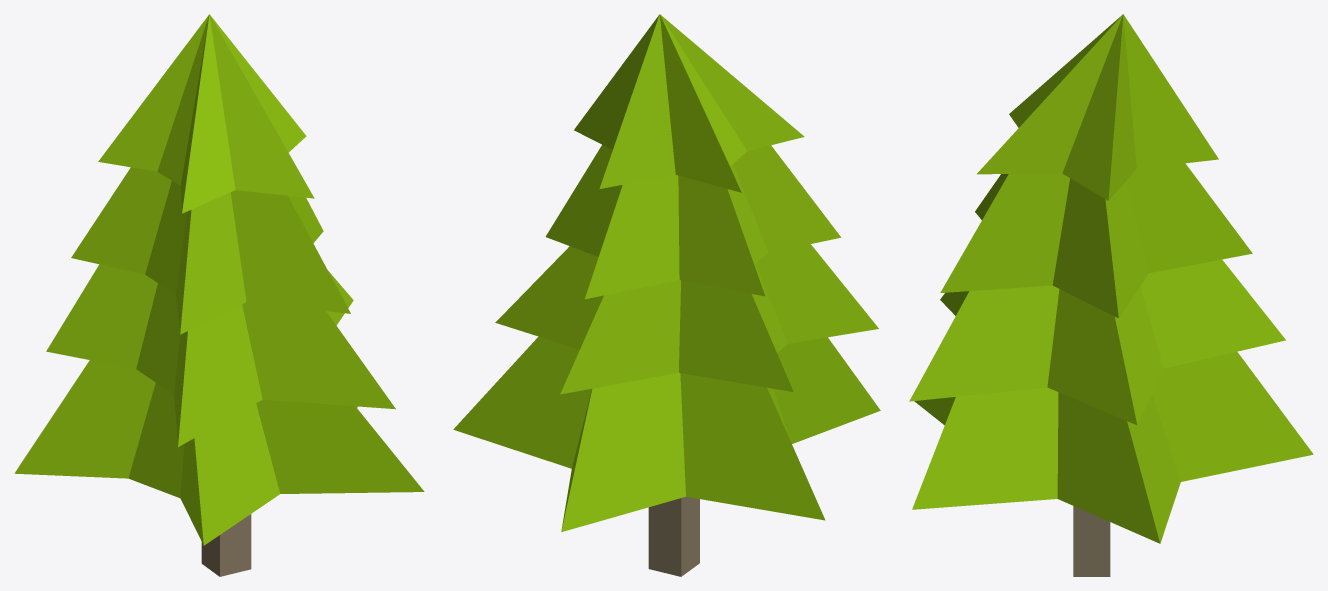
Rendered from tree_pine_star_skewed_3.fbx.
3 views of the same model, side by side, from view 1: azimuth 30°, elevation 25°; view 2: azimuth 150°, elevation 25°; view 3: azimuth 270°, elevation 25° (orthographic). The views are drawn at different scales.
Parts seen in each view (by area): view 1: tree_pine_star_skewed_3; view 2: tree_pine_star_skewed_3; view 3: tree_pine_star_skewed_3.
Part boxes in pixels (x1,y1,x2,y2): tree_pine_star_skewed_3: [14, 14, 424, 576]; tree_pine_star_skewed_3: [453, 14, 880, 576]; tree_pine_star_skewed_3: [909, 14, 1313, 576].
Size of the model in its own units: 140 by 203 by 134.
